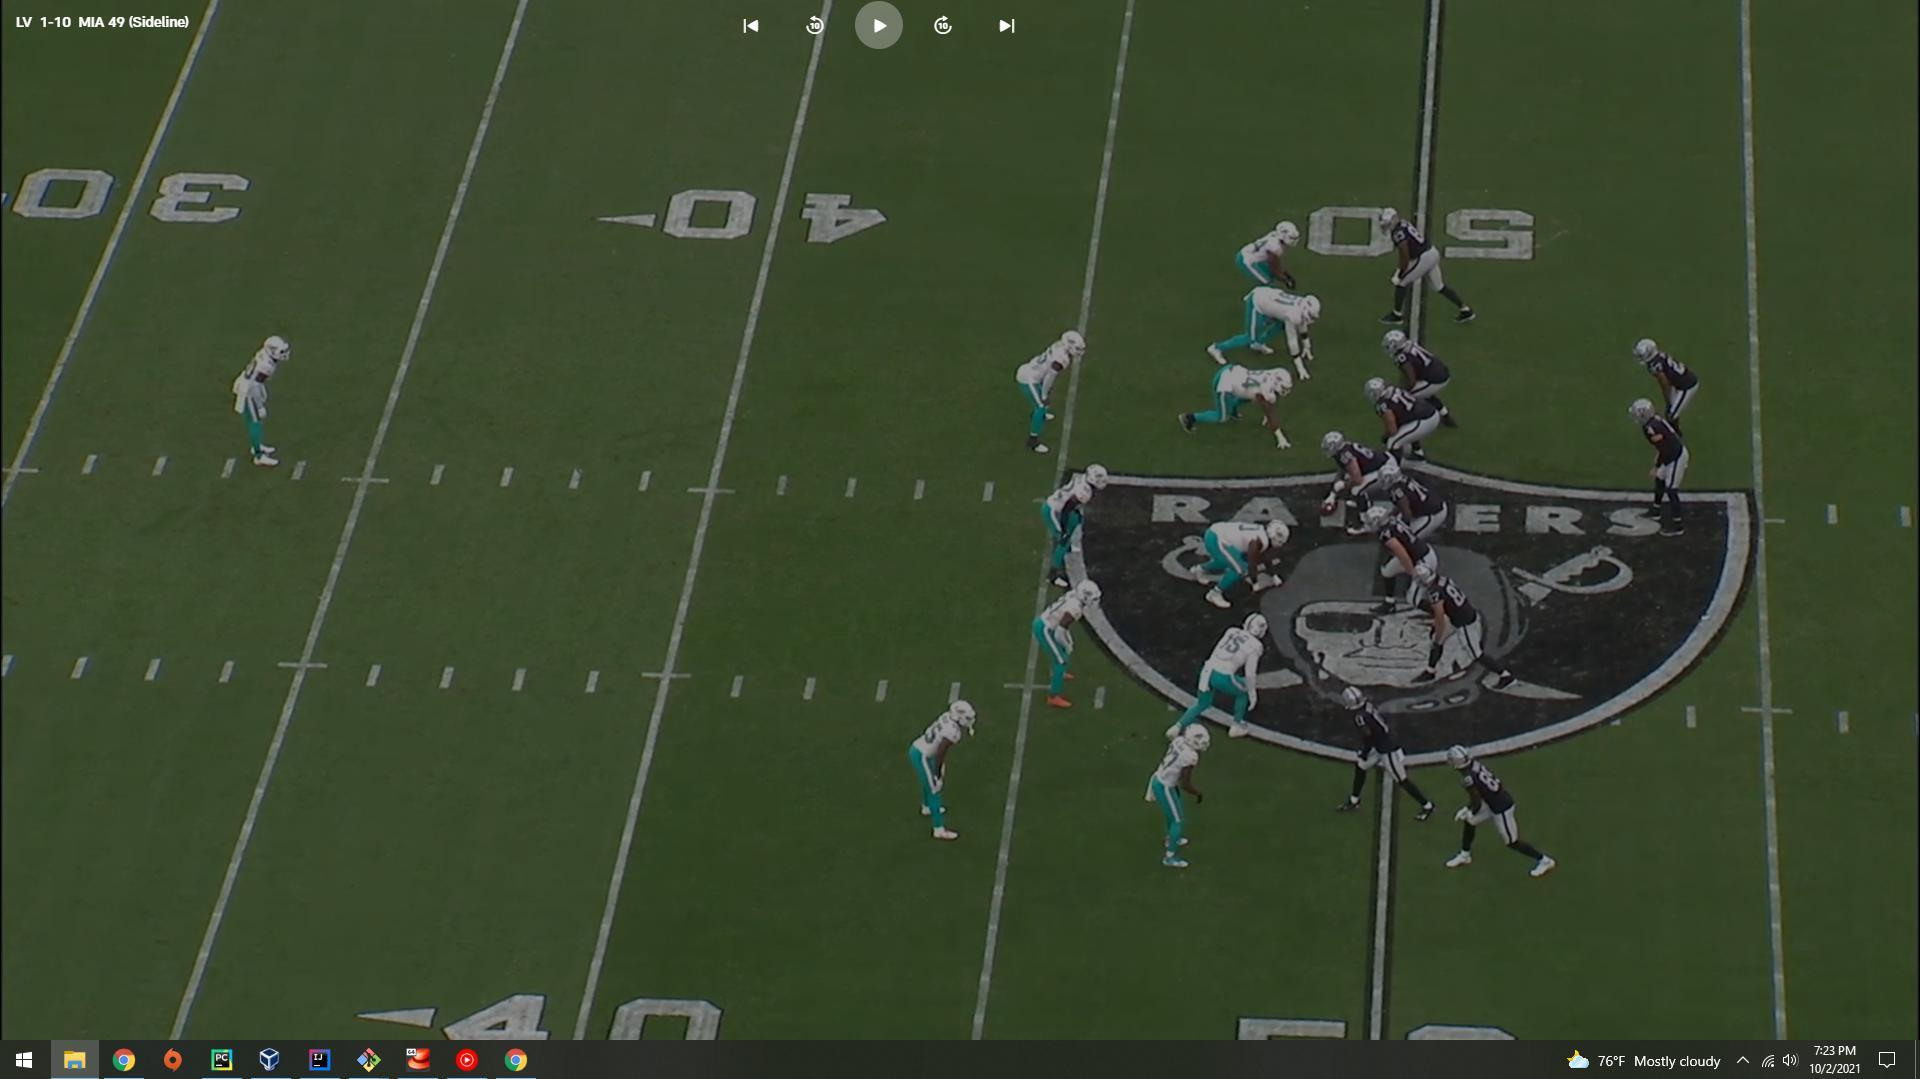player: (1440, 748, 1561, 885), (1172, 612, 1277, 745), (1339, 682, 1439, 819), (1377, 212, 1473, 334), (1422, 568, 1514, 695), (1184, 519, 1298, 618), (1137, 717, 1209, 873), (903, 694, 977, 843), (1179, 365, 1304, 452), (1205, 286, 1327, 373), (1041, 459, 1117, 593), (1033, 573, 1106, 706), (1013, 326, 1088, 455), (1320, 429, 1405, 534), (236, 331, 299, 472), (1365, 375, 1446, 479), (1379, 326, 1455, 429), (1631, 399, 1693, 520), (1373, 514, 1443, 621), (1637, 334, 1701, 433), (1368, 465, 1442, 549), (1239, 216, 1306, 303)
